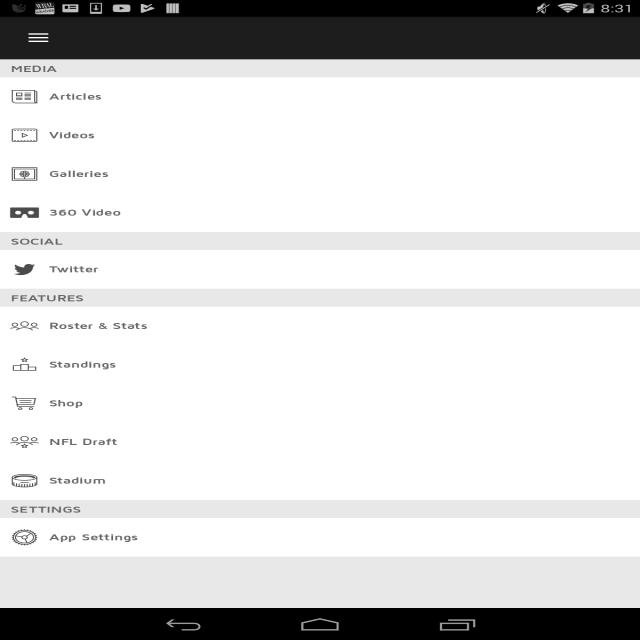ImageButton: (21, 31, 58, 45)
ImageView: (5, 524, 40, 549), (4, 162, 42, 184), (3, 202, 45, 220), (4, 124, 39, 144), (12, 391, 44, 411), (9, 259, 38, 280), (6, 86, 39, 104), (7, 318, 40, 334)
TextView: (45, 527, 145, 544), (48, 430, 124, 451), (8, 289, 94, 306), (49, 164, 115, 182), (7, 231, 66, 249), (7, 502, 85, 515), (48, 88, 105, 105), (50, 260, 115, 274)
